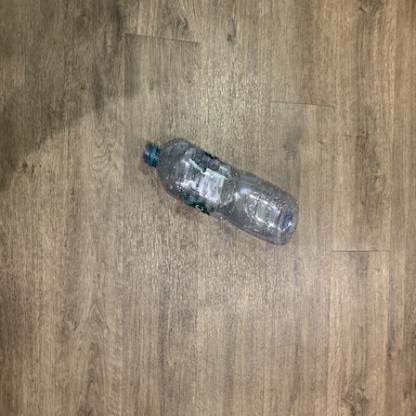trash: (141, 137, 302, 246)
